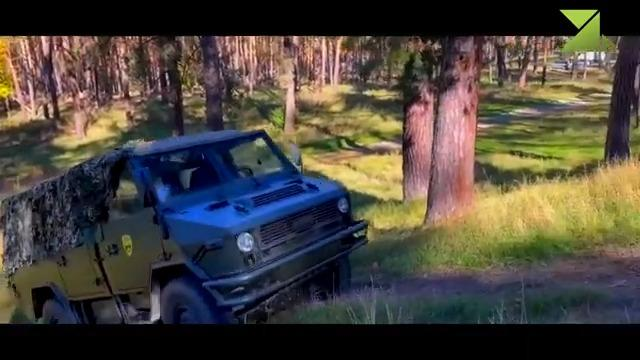MIL_HMMWV: (2, 128, 371, 325)
